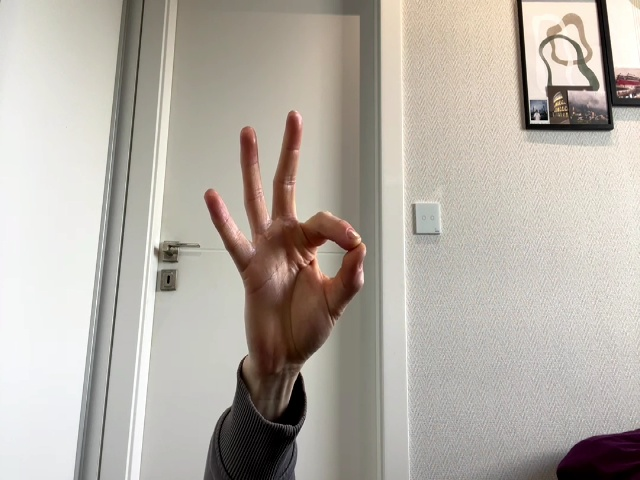O: (204, 111, 365, 380)
